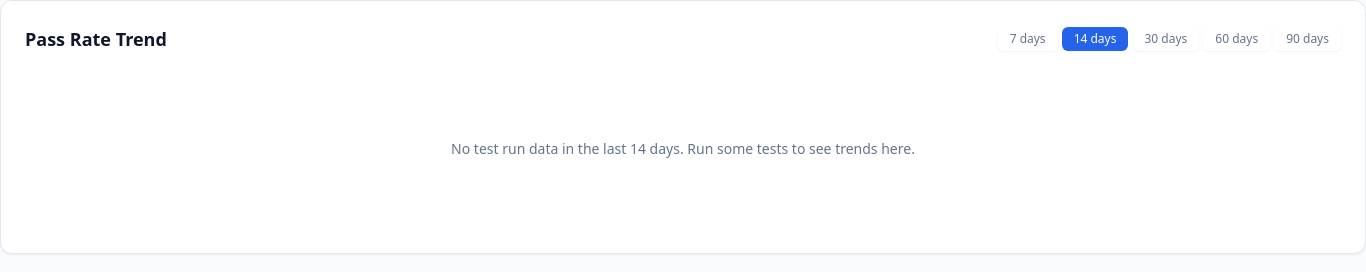
TrendChart › displays correct message for selected time range in empty state
The width and height of the screenshot is (1366, 272).
Expected: the text "No test run data in the last 14 days" is shown, top-left (451, 139), bottom-right (915, 158)
# Change to 7 days
Click the button with aria-label "Show 7 days": {"x": 1028, "y": 39} top-left (998, 27), bottom-right (1058, 51)
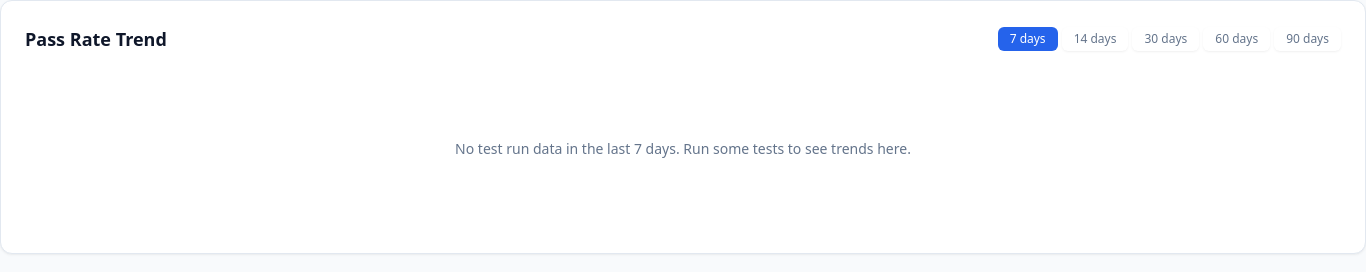
Result: the text "No test run data in the last 7 days" is shown at top-left (455, 139), bottom-right (911, 158)
